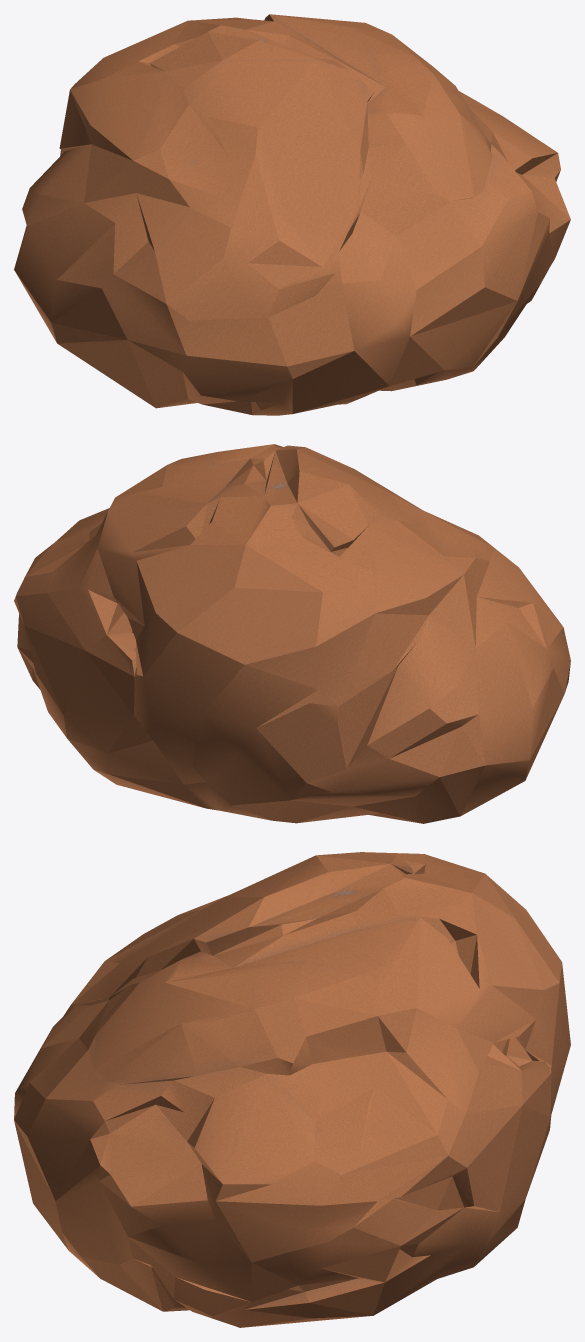
The model's file is rock_red.glb.
The picture shows the model from 3 angles, top to bottom: view 1: azimuth 30°, elevation 25°; view 2: azimuth 150°, elevation 25°; view 3: azimuth 270°, elevation 25°; orthographic projection. The views are drawn at different scales.
Bounding box in the file's own units: 1.89 × 1.22 × 1.64.
Materials: 1 (1 with a texture image).
